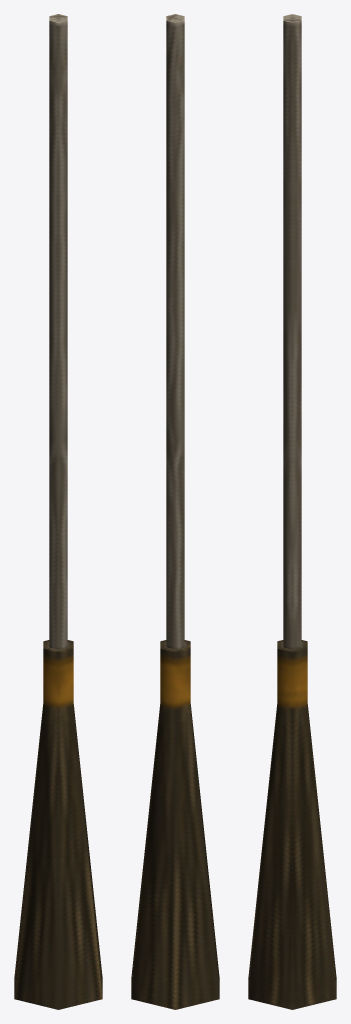
The model's file is Broom_Geo.fbx.
3 renders of one model, left to right at view 1: azimuth 90°, elevation 25°; view 2: azimuth 150°, elevation 25°; view 3: azimuth 270°, elevation 25°, orthographic.
Parts seen in each view (by area): view 1: Broom_Geo; view 2: Broom_Geo; view 3: Broom_Geo.
Part boxes in pixels (bbox=[...]): Broom_Geo: bbox=[14, 14, 102, 1009]; Broom_Geo: bbox=[131, 14, 219, 1009]; Broom_Geo: bbox=[248, 14, 336, 1009].
Size of the model in its own units: 16.2 by 171 by 14.03.
